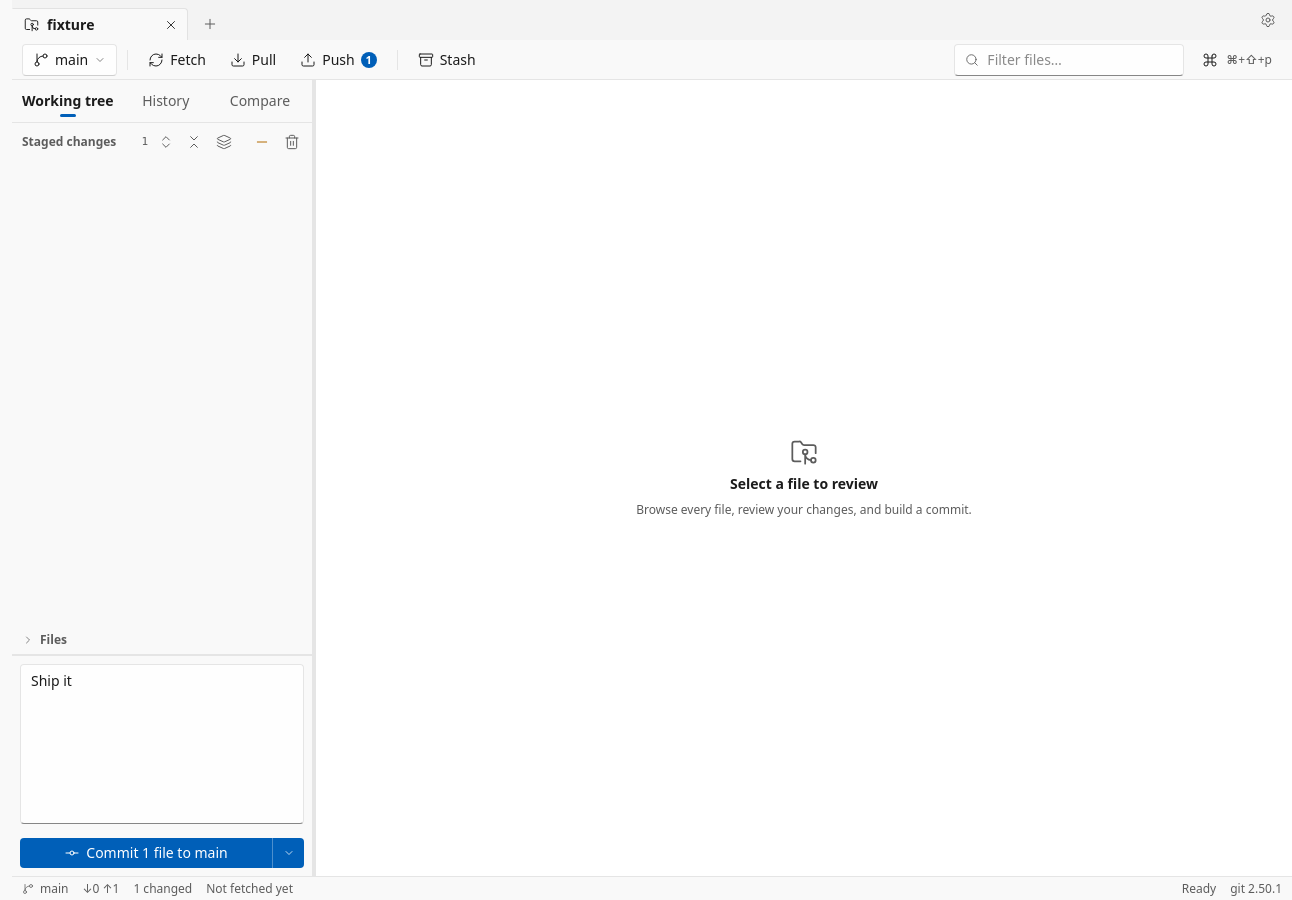
Test: commit and push › pushes after committing once the mode is chosen from the menu
Expected: the button "Commit 1 file to main" is shown, [20, 838, 272, 868]
Click the button named "Commit options". click: point(288, 853)
box: [272, 838, 304, 868]
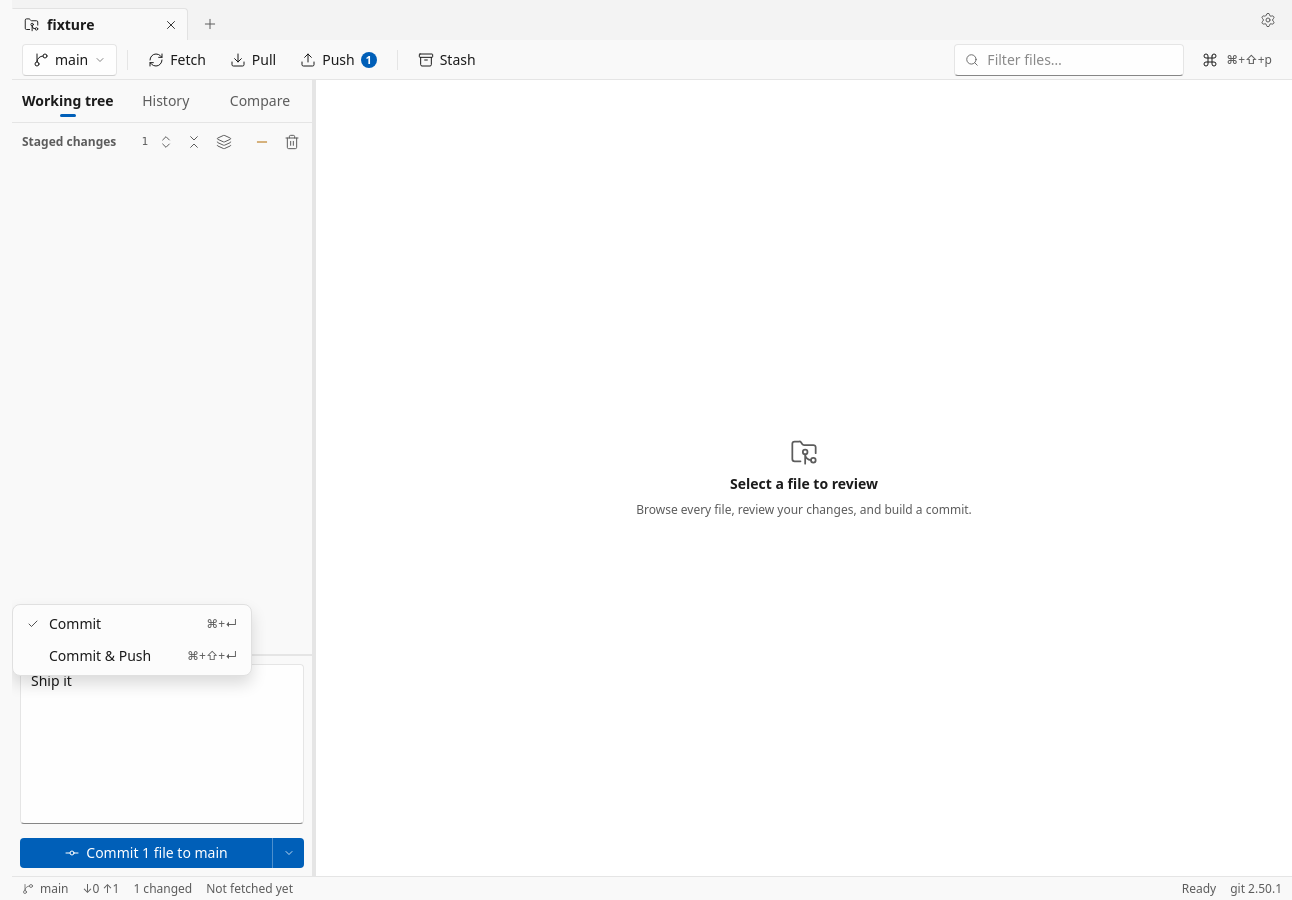
Click the menu item "Commit & Push ⌘+⇧+↵". click: point(143, 656)
box: [49, 646, 237, 665]
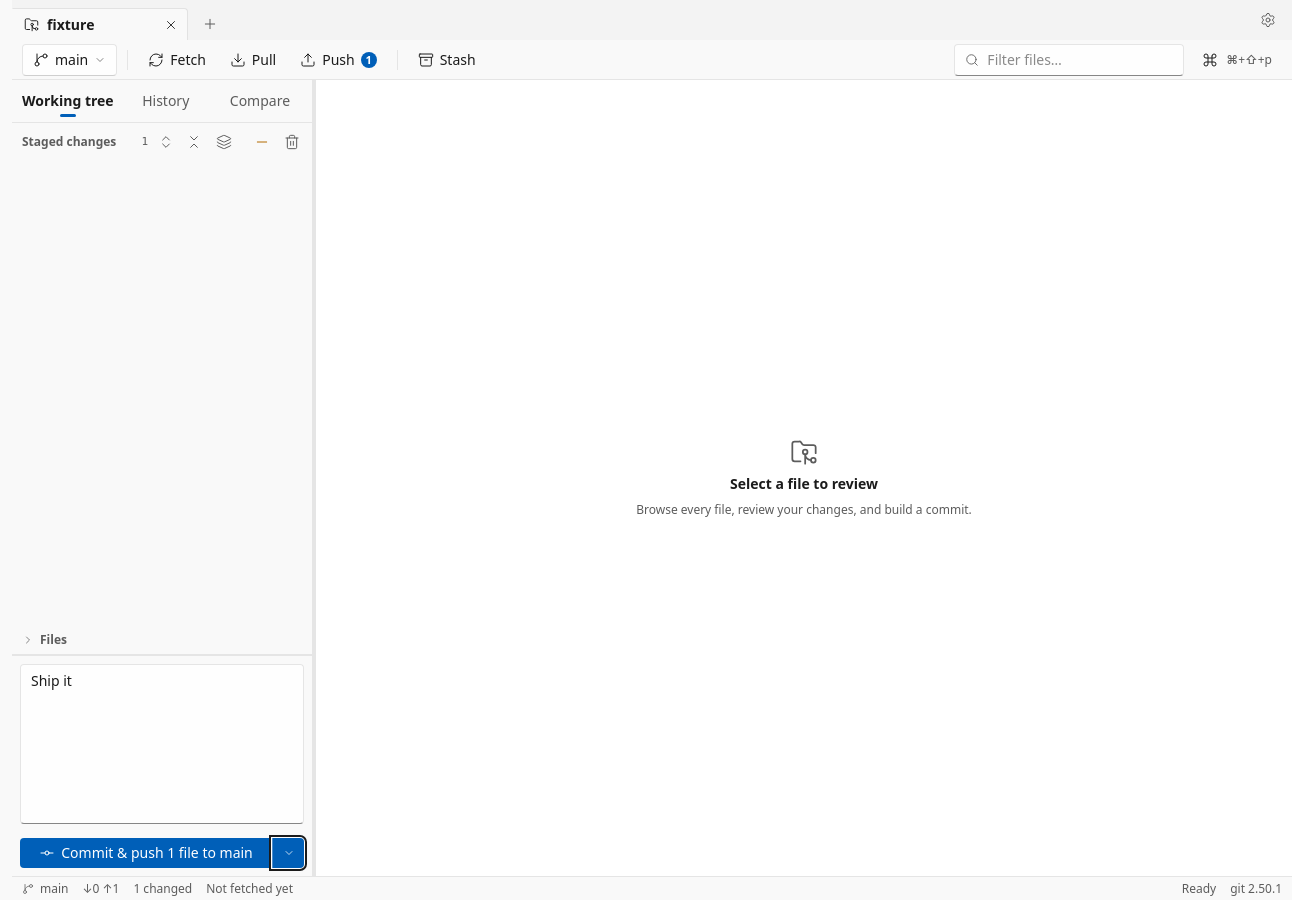
Click the button "Commit & push 1 file to main". click: point(146, 853)
box: [20, 838, 272, 868]
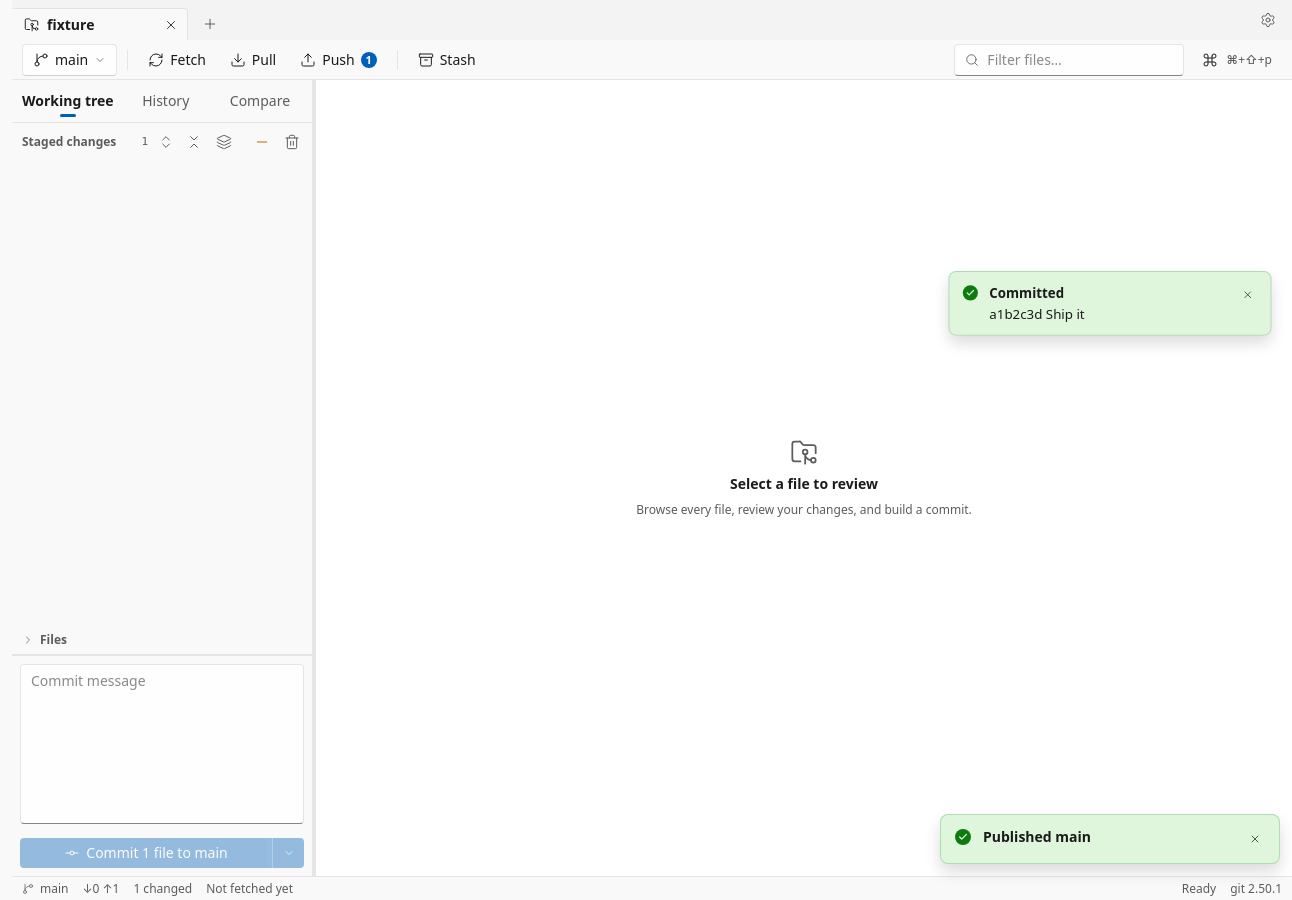
Expected: the text box labelled "Commit message" is empty, [20, 664, 304, 824]
Expected: the button "Commit 1 file to main" is shown, [20, 838, 272, 868]
